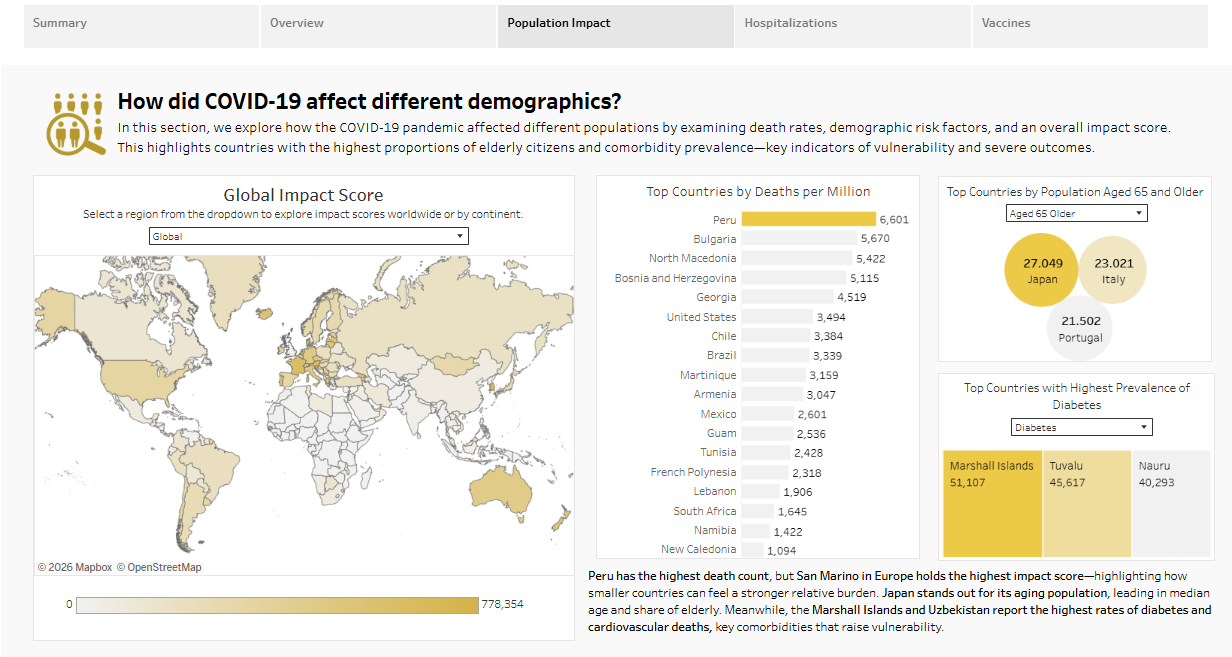

What the dashboard file says about the page in this screenshot:
{"tool":"tableau","page":{"name":"3 - Population Impact","canvas":[1400,700],"ordinal":1},"visuals":[{"type":"blank","box":[8,8,1384,684]},{"type":"text","box":[137,22,1183,97]},{"type":"worksheet","title":"Impact Score","mark":"Automatic","box":[43,130,603,447]},{"type":"worksheet","title":"Top Countries Deaths","mark":"Automatic","rows":["location"],"cols":["new_deaths_per_million"],"box":[670,130,361,428]},{"type":"worksheet","title":"Age Group","mark":"Circle","box":[1050,131,306,207]},{"type":"parameter","param":"[Parameters].[Parameter 6]","box":[1125,162,160,48]},{"type":"parameter","param":"[Parameters].[Parameter 4]","box":[171,188,359,31]},{"type":"worksheet","title":"Comorbidities","mark":"Automatic","box":[1051,350,308,210]},{"type":"parameter","param":"[Parameters].[Parameter 5]","box":[1131,400,160,29]},{"type":"text","box":[661,566,704,108]},{"type":"blank","box":[43,575,603,74]},{"type":"legend","title":"Impact Score","param":"[federated.1f8hzj10l7pwom1exmcoq1esbqpq].[sum:Calculation_1055565805756774:qk]","box":[76,596,518,80]}]}

Visuals, with their boxes on the page's 1400x700 design canvas (x1, y1, x2, y2). These are canvas units, not pixel positions in the 1232x657 screenshot, which may show the page scaled, cropped or inside an application window:
blank: {"left": 8, "top": 8, "right": 1392, "bottom": 692}
text: {"left": 137, "top": 22, "right": 1320, "bottom": 119}
"Impact Score" worksheet: {"left": 43, "top": 130, "right": 646, "bottom": 577}
"Top Countries Deaths" worksheet: {"left": 670, "top": 130, "right": 1031, "bottom": 558}
"Age Group" worksheet (Circle marks): {"left": 1050, "top": 131, "right": 1356, "bottom": 338}
parameter: {"left": 1125, "top": 162, "right": 1285, "bottom": 210}
parameter: {"left": 171, "top": 188, "right": 530, "bottom": 219}
"Comorbidities" worksheet: {"left": 1051, "top": 350, "right": 1359, "bottom": 560}
parameter: {"left": 1131, "top": 400, "right": 1291, "bottom": 429}
text: {"left": 661, "top": 566, "right": 1365, "bottom": 674}
blank: {"left": 43, "top": 575, "right": 646, "bottom": 649}
"Impact Score" legend: {"left": 76, "top": 596, "right": 594, "bottom": 676}
